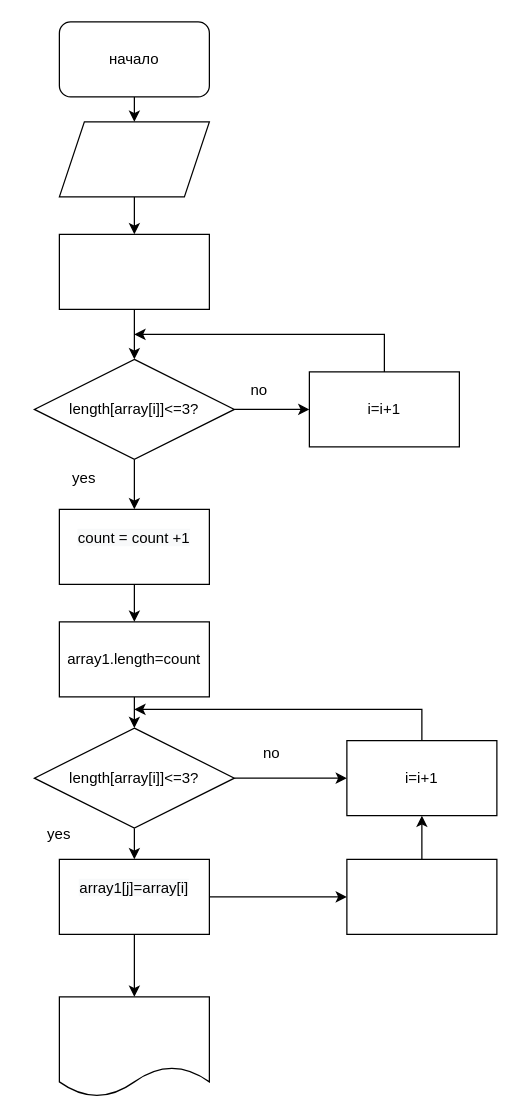
Image size: 519x1119. Some labels were removed from this diagram. Each missing label, with the box of its shape:
i=0 j=0 array1 = length1: (58, 233, 209, 309)
j=j+1: (346, 858, 497, 934)
print array1: (58, 996, 209, 1097)
string [] array: (58, 121, 209, 197)
